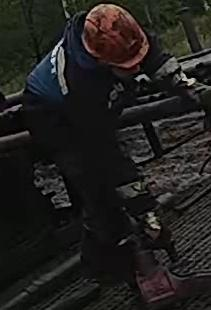gloves: (158, 59, 211, 110), (130, 205, 177, 252)
helmet: (80, 3, 150, 70)
vest: (22, 41, 139, 163)
